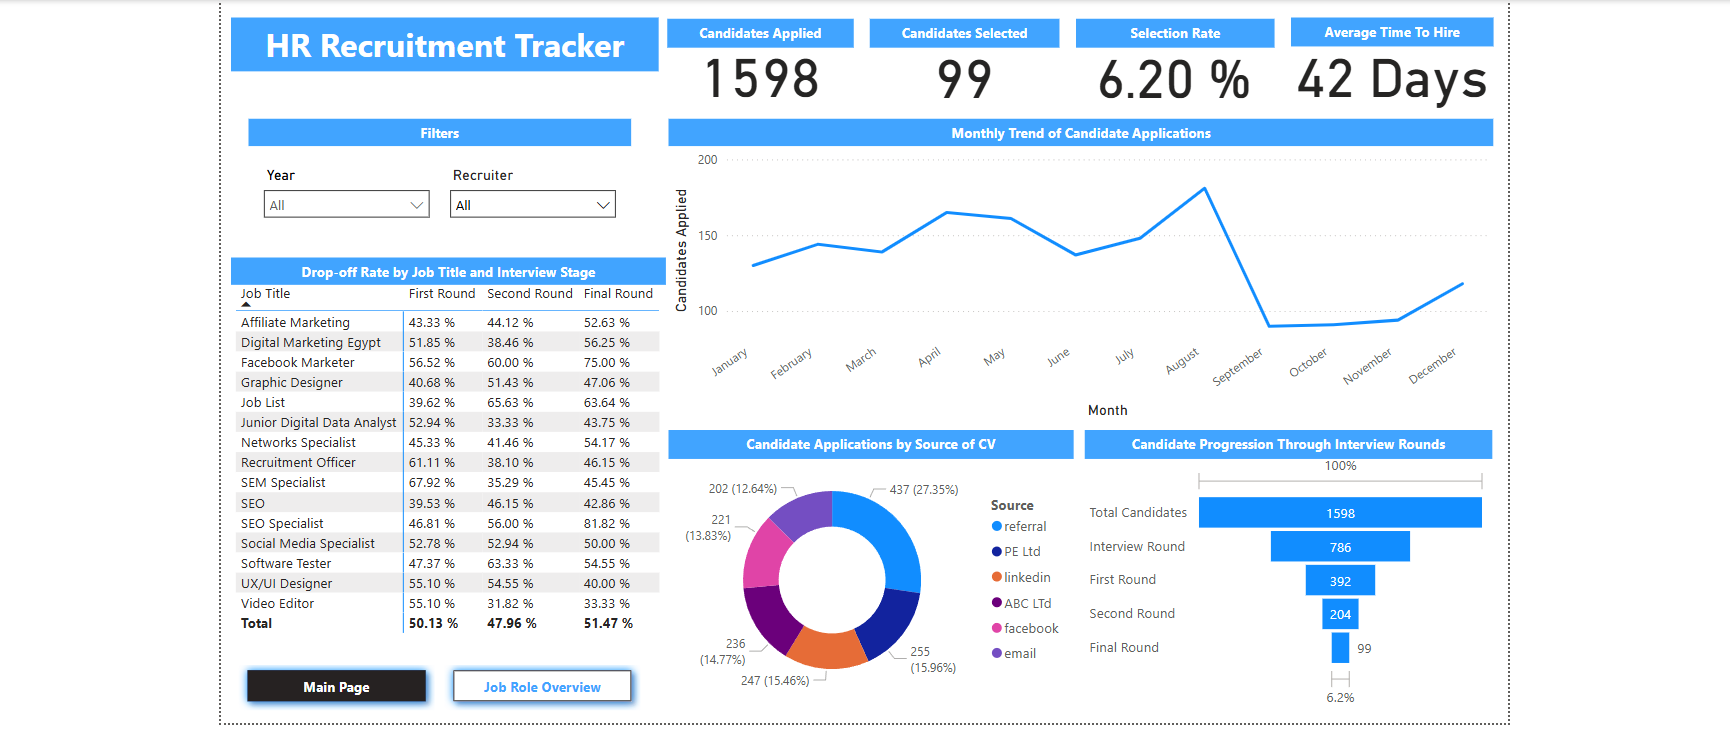

Layout of this report page (visuals, bound fields, positions):
{"tool":"powerbi","page":{"name":"Main Page","canvas":[1280,720],"ordinal":0},"visuals":[{"type":"lineChart","title":"Monthly Trend of Candidate Applicationsby Month Name","fields":{"Category":["Date_Dimension.Month Name"],"Y":["Recruitment.total_candidates_applied"]},"box":[445.3,125.6,821,296.1],"z":0},{"type":"slicer","fields":{"Values":["Date_Dimension.Year"]},"box":[33,161,185.1,82.4],"z":1000},{"type":"card","fields":{"Values":["Recruitment.total_candidates_applied"]},"box":[444.1,17.4,185.3,107],"z":2000},{"type":"card","fields":{"Values":["Recruitment.total_candidates_selected"]},"box":[644.4,18.7,190.3,107],"z":3000},{"type":"card","fields":{"Values":["Recruitment.selection_rate"]},"box":[849.6,18.7,197.8,105.7],"z":4000},{"type":"card","fields":{"Values":["Recruitment.average_time_to_hire"]},"box":[1064.8,17.4,201.5,107],"z":5000},{"type":"slicer","fields":{"Values":["Recruitment.recruiter"]},"box":[217.7,160.5,185.3,83.3],"z":6000},{"type":"funnel","title":"Candidate Progression Through Interview Rounds ","fields":{"Y":["Recruitment.total_candidates_applied","Recruitment.selected_for_interview","Recruitment.selected_1st_round","Recruitment.selected_2nd_round","Recruitment.selected_last_round"]},"box":[859.6,427.9,405.5,279.9],"z":7000},{"type":"donutChart","title":"Candidate Applications by Source of CV","fields":{"Category":["Recruitment.source_of_cv"],"Y":["Recruitment.total_candidates_applied"]},"box":[445.3,427.9,403,279.9],"z":8000},{"type":"pivotTable","title":"Drop-off Rate by Job Title and Interview Stage","fields":{"Rows":["Recruitment.job_title"],"Values":["Recruitment.1st_round_dropoff_rate","Recruitment.2nd_round_dropoff_rate","Recruitment.final_round_dropoff_rate"]},"box":[10,256.3,434.1,379.4],"z":9000},{"type":"textbox","box":[10,17.4,425.4,53.5],"z":10000},{"type":"textbox","box":[444.1,18.7,185.3,28.6],"z":11000},{"type":"textbox","box":[645.6,18.7,189.1,28.6],"z":12000},{"type":"textbox","box":[850.9,18.7,197.8,28.6],"z":13000},{"type":"textbox","box":[1064.8,17.4,201.5,28.6],"z":14000},{"type":"textbox","box":[10,256.3,432.9,27.4],"z":15000},{"type":"textbox","box":[445.3,118.2,821,27.4],"z":16000},{"type":"textbox","box":[859.6,428.2,405.5,28.6],"z":17000},{"type":"textbox","box":[445.3,428.2,403,28.6],"z":18000},{"type":"textbox","box":[27.4,118.2,380.7,27.4],"z":19000},{"type":"pageNavigator","box":[17.4,658.1,400.6,49.8],"z":20000}]}

Visuals, with their boxes on the page's 1280x720 design canvas (x1, y1, x2, y2). These are canvas units, not pixel positions in the 1730x732 screenshot, which may show the page scaled, cropped or inside an application window:
"Monthly Trend of Candidate Applicationsby Month Name" lineChart: rect(445, 126, 1266, 422)
slicer - Date_Dimension.Year: rect(33, 161, 218, 243)
card - Recruitment.total_candidates_applied: rect(444, 17, 629, 124)
card - Recruitment.total_candidates_selected: rect(644, 19, 835, 126)
card - Recruitment.selection_rate: rect(850, 19, 1047, 124)
card - Recruitment.average_time_to_hire: rect(1065, 17, 1266, 124)
slicer - Recruitment.recruiter: rect(218, 160, 403, 244)
"Candidate Progression Through Interview Rounds " funnel: rect(860, 428, 1265, 708)
"Candidate Applications by Source of CV" donutChart: rect(445, 428, 848, 708)
"Drop-off Rate by Job Title and Interview Stage" pivotTable: rect(10, 256, 444, 636)
textbox: rect(10, 17, 435, 71)
textbox: rect(444, 19, 629, 47)
textbox: rect(646, 19, 835, 47)
textbox: rect(851, 19, 1049, 47)
textbox: rect(1065, 17, 1266, 46)
textbox: rect(10, 256, 443, 284)
textbox: rect(445, 118, 1266, 146)
textbox: rect(860, 428, 1265, 457)
textbox: rect(445, 428, 848, 457)
textbox: rect(27, 118, 408, 146)
pageNavigator: rect(17, 658, 418, 708)
